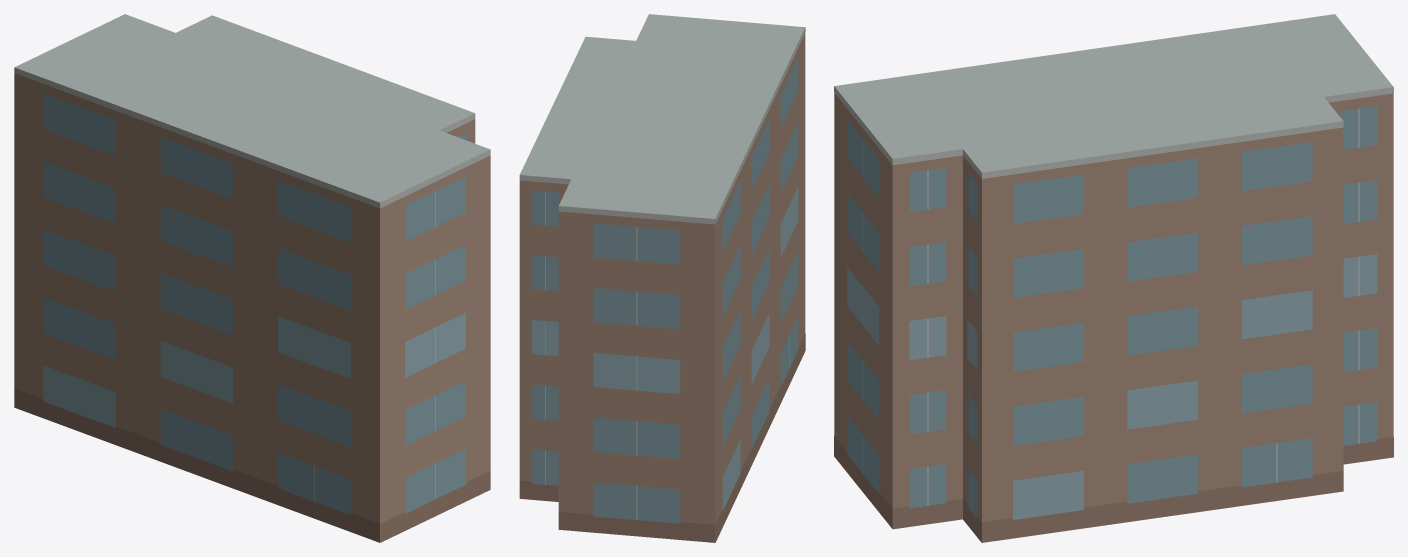
Rendered from survey-upis-33025183.glb.
3 views of the same model, side by side, from view 1: azimuth 30°, elevation 25°; view 2: azimuth 150°, elevation 25°; view 3: azimuth 270°, elevation 25° (orthographic). The views are drawn at different scales.
Visible parts, largest first — view 1: survey-upis-33025183.tmp; view 2: survey-upis-33025183.tmp; view 3: survey-upis-33025183.tmp.
Part boxes in pixels (bbox=[...]): survey-upis-33025183.tmp: bbox=[14, 14, 490, 542]; survey-upis-33025183.tmp: bbox=[519, 14, 805, 542]; survey-upis-33025183.tmp: bbox=[834, 14, 1393, 542].
Size of the model in its own units: 13.25 by 14.4 by 19.74.
